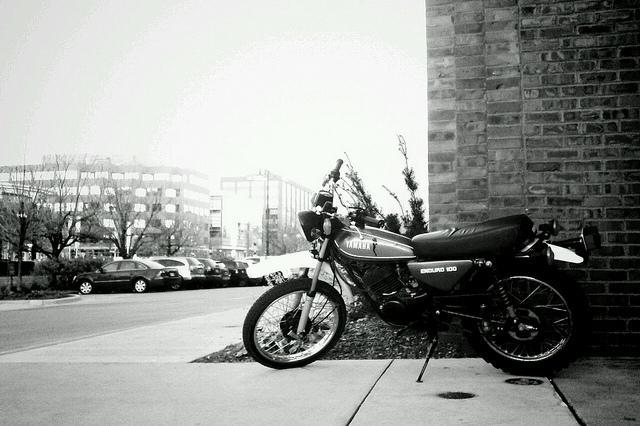car: (70, 260, 180, 296), (138, 258, 191, 280), (198, 257, 232, 290), (166, 258, 207, 280), (240, 261, 264, 288), (225, 260, 247, 286), (240, 257, 266, 264)
motorcycle: (242, 160, 599, 384)
